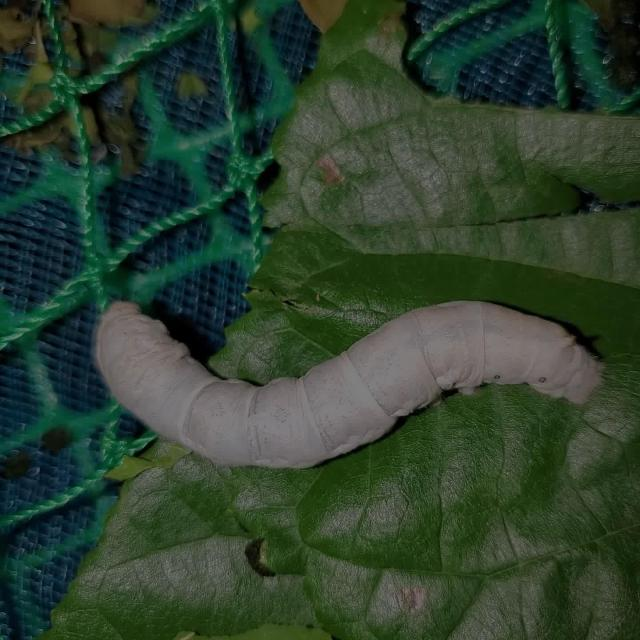Healthy: (89, 274, 617, 483)
